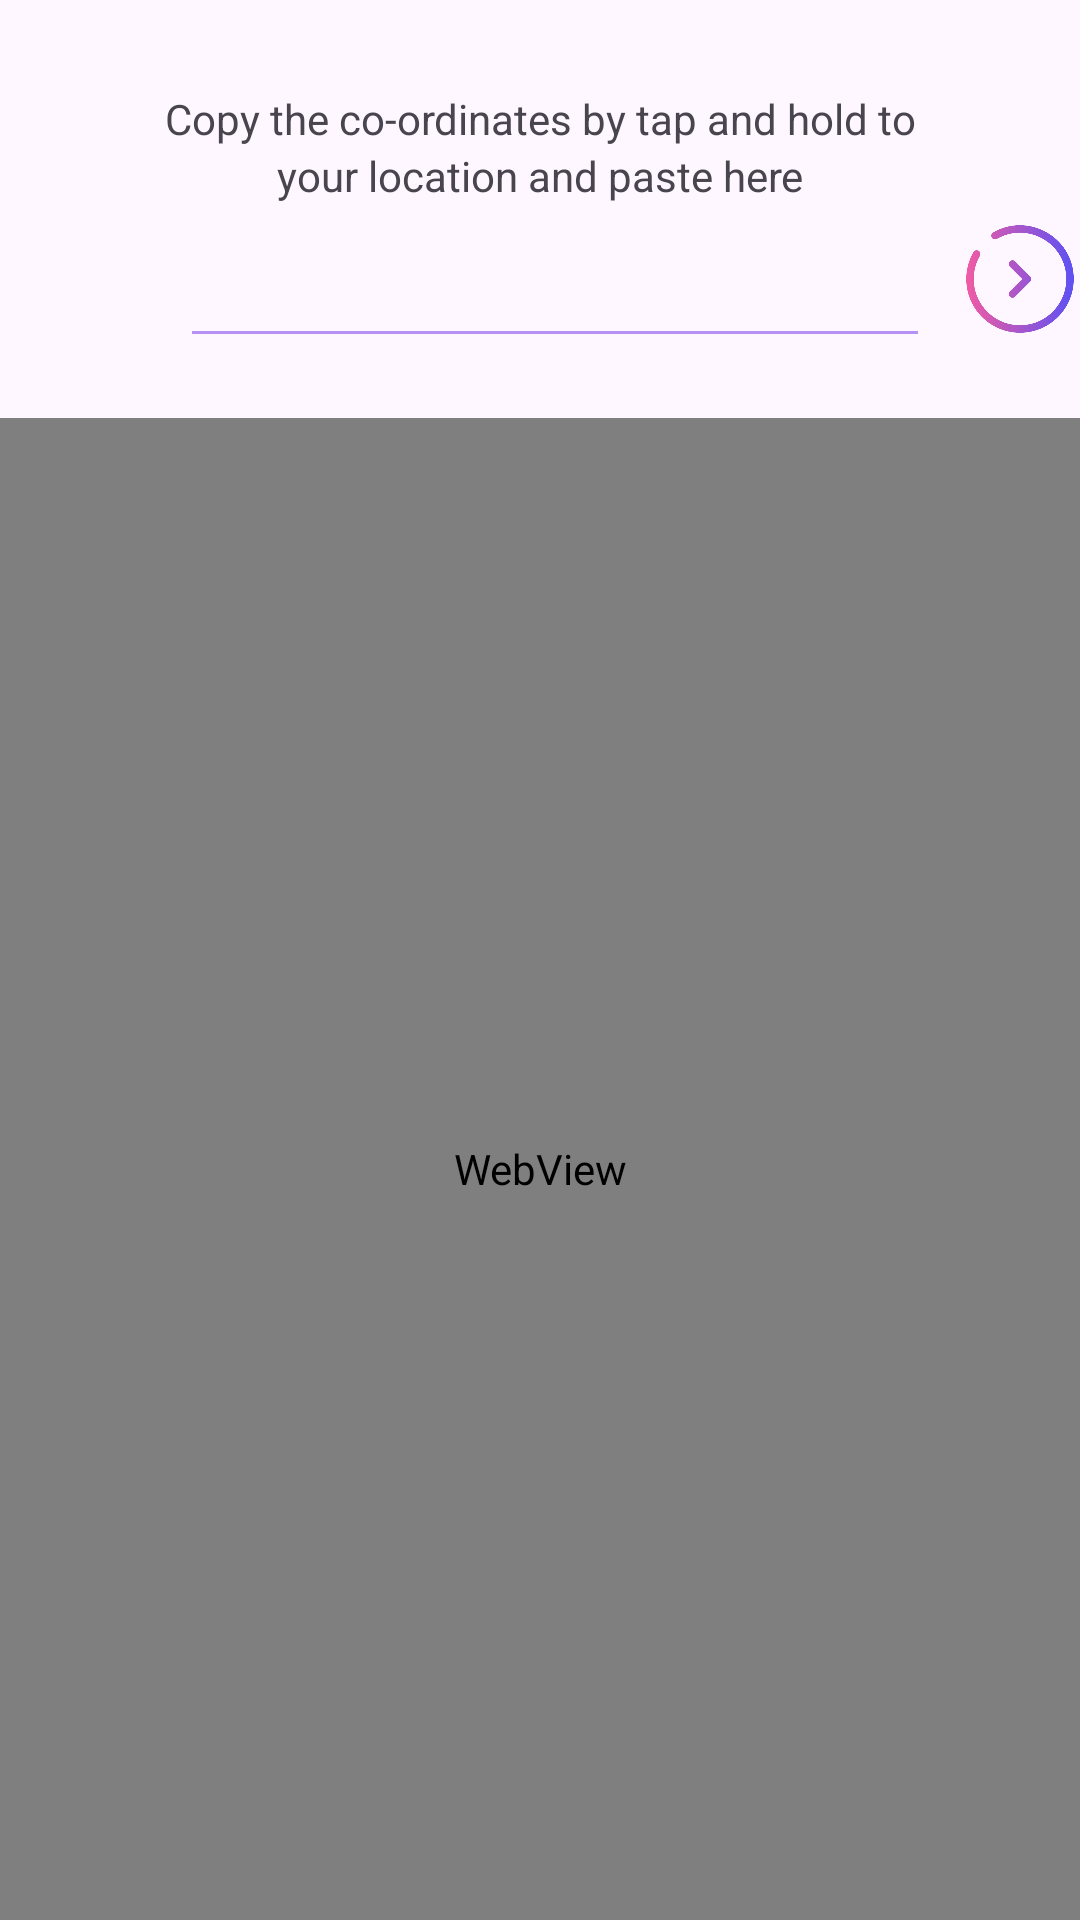

Where icons sit on this 1080 × 1920 app screen, as (x1, y1, x2, y2):
arrow: (966, 225, 1074, 333)
